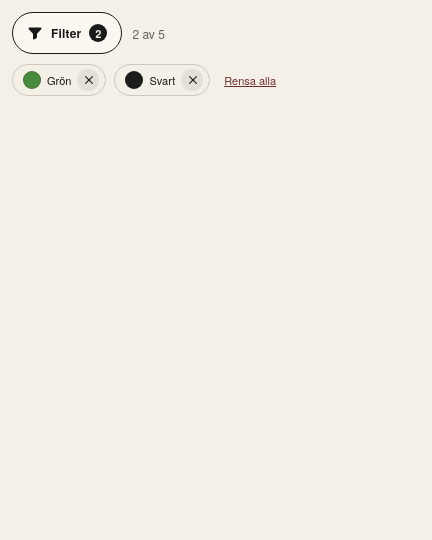
UnifiedFilter › keeps two colours selected at once
Step 1. Click the button "Filter 2" → [67, 33], box [12, 12, 122, 54]
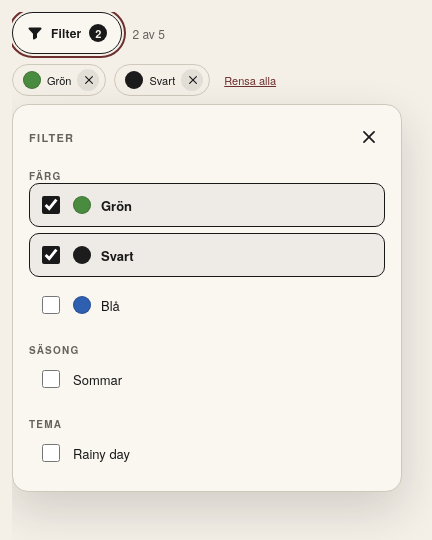
Expected: the checkbox labelled "Grön" is checked, [42, 196, 60, 214]
Expected: the checkbox labelled "Svart" is checked, [42, 246, 60, 264]
